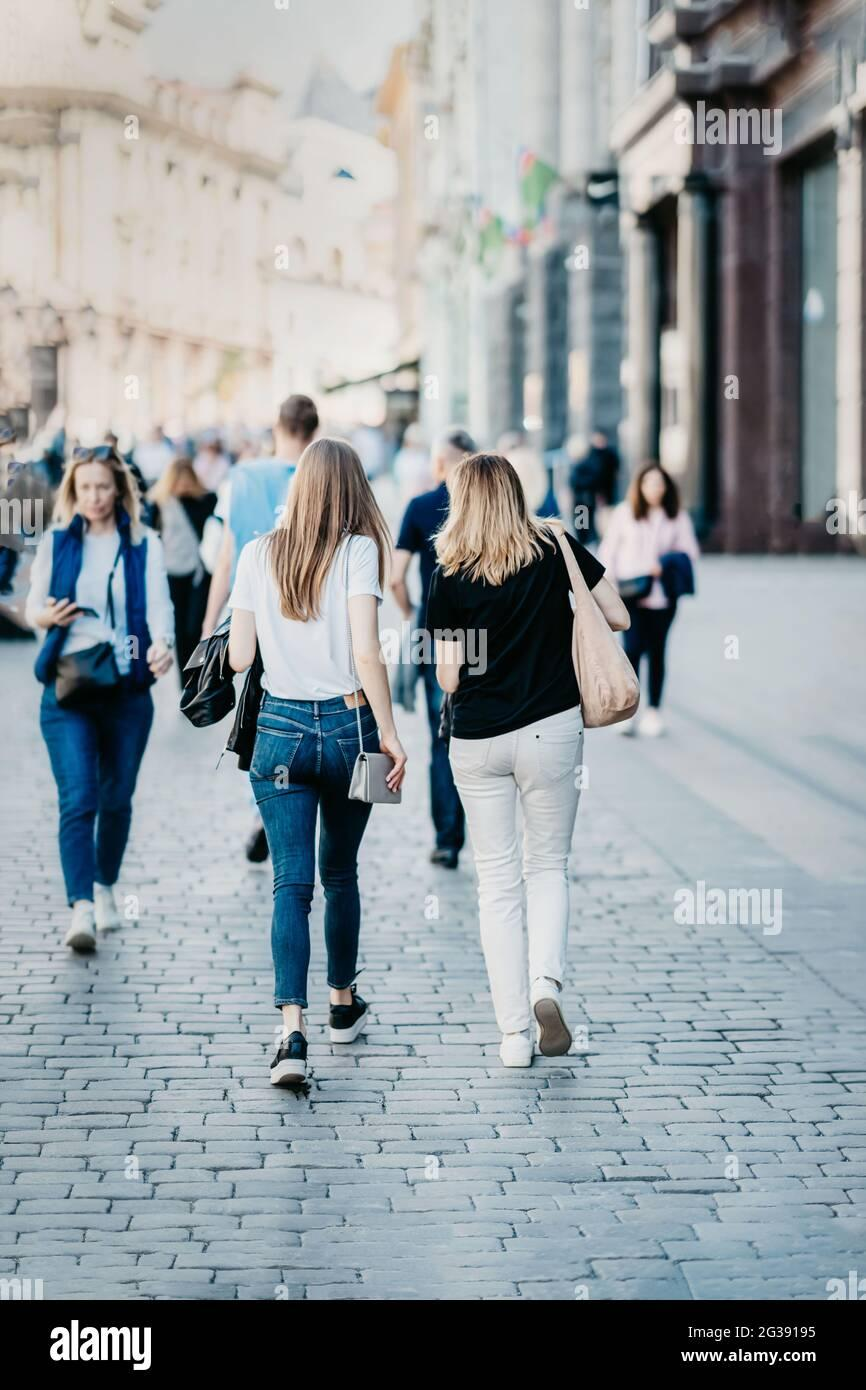long sleeve shirt: (24, 514, 178, 678)
short sleeve shirt: (421, 514, 614, 743), (229, 525, 382, 705)
trousers: (445, 700, 586, 1039), (247, 690, 388, 1007), (32, 679, 158, 911), (617, 600, 678, 714)
